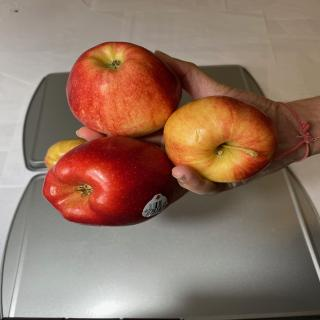Apple: (42, 135, 189, 227), (66, 41, 182, 138), (163, 95, 279, 183), (44, 138, 88, 170)
